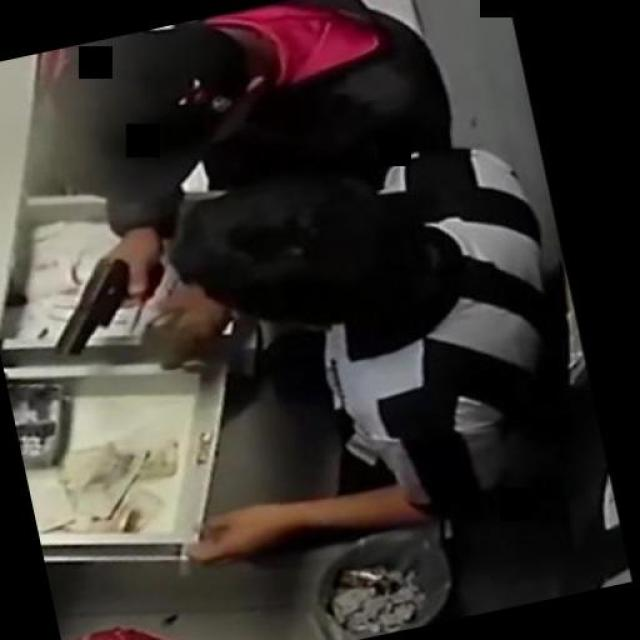gun: (34, 235, 178, 360)
